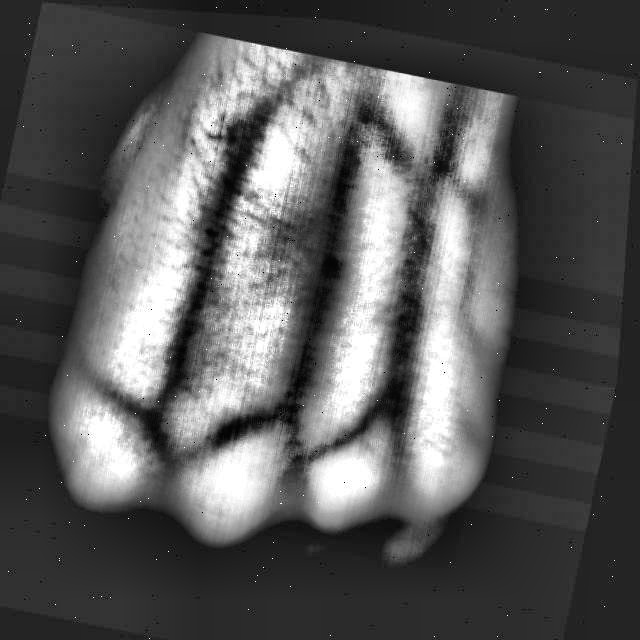Vein: (291, 153, 369, 358), (383, 168, 448, 375)
